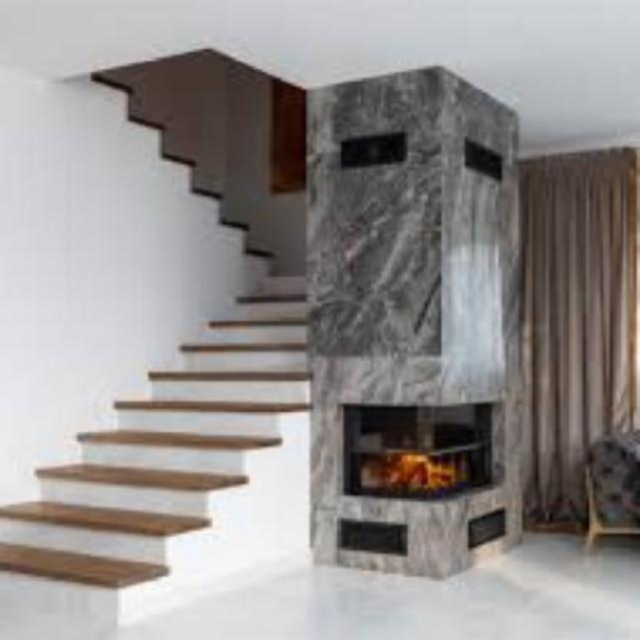stair: (0, 274, 354, 634)
